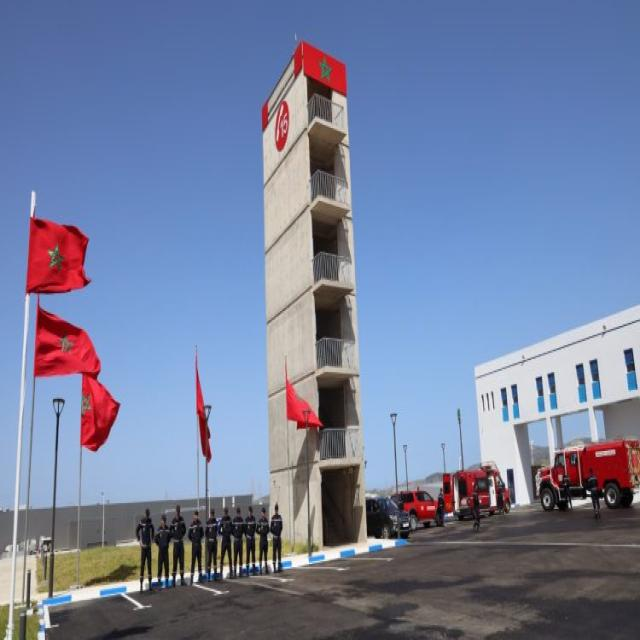pompier: (531, 434, 640, 525)
